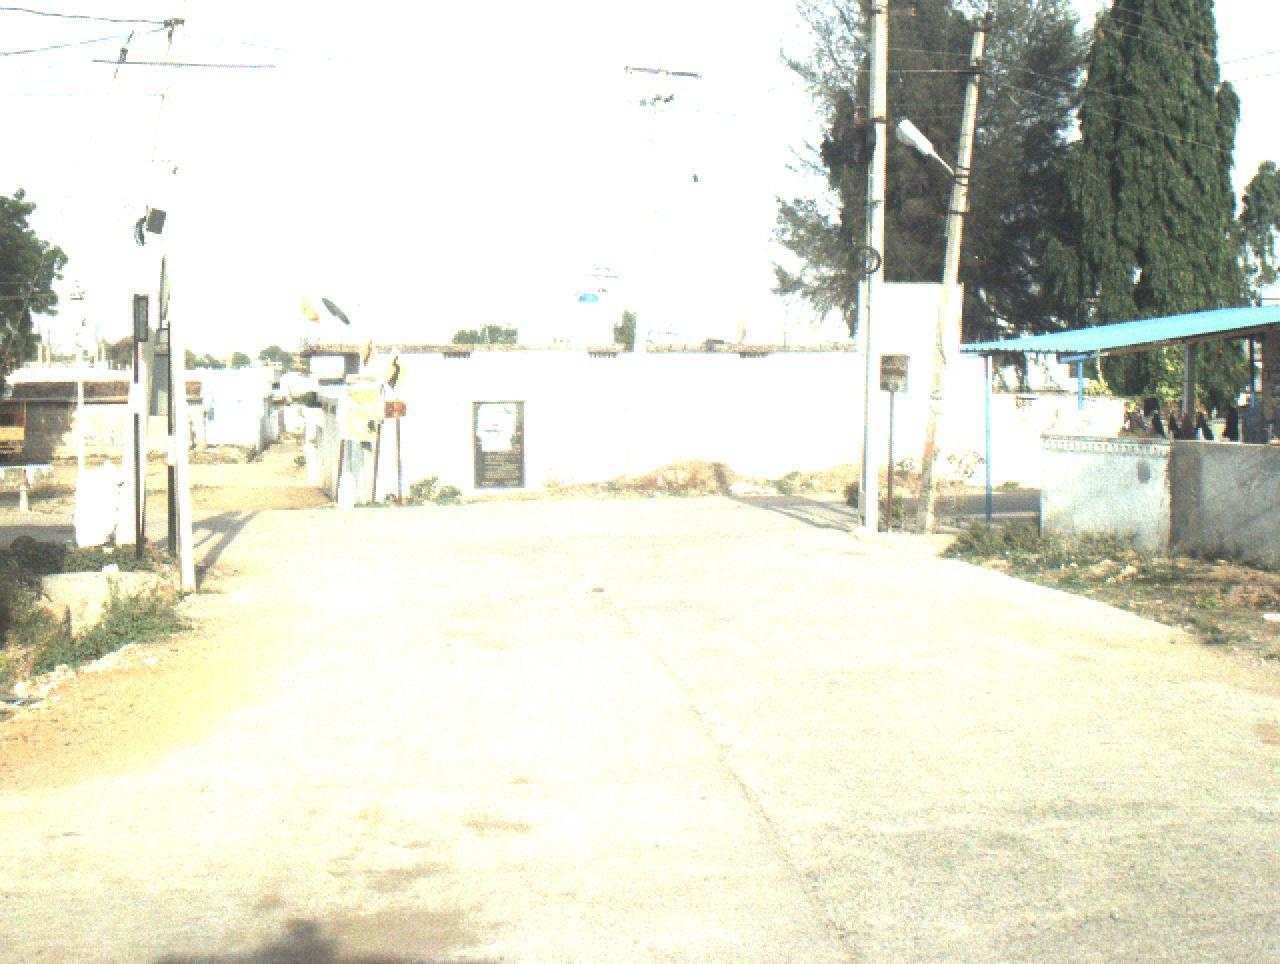off: (0, 56, 1211, 964)
